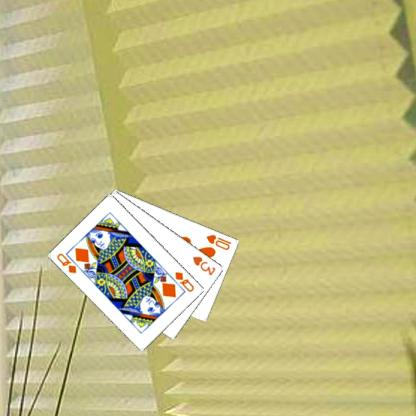10H: (204, 232, 233, 251)
3H: (190, 253, 217, 277)
QD: (172, 269, 196, 293), (54, 250, 78, 274)
